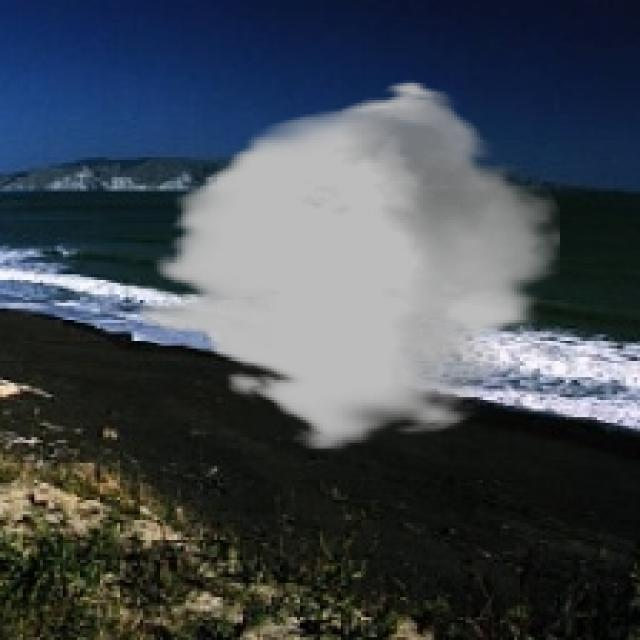Smoke: (140, 80, 560, 452)
